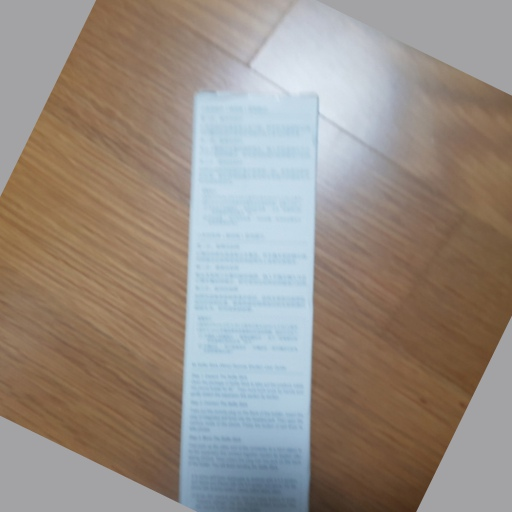Paper_0: (167, 81, 326, 512)
